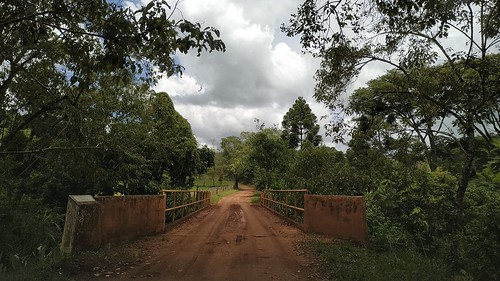road: (112, 192, 320, 281)
sky: (174, 1, 305, 140)
tree: (308, 1, 500, 103)
vegetation: (1, 1, 198, 183), (250, 99, 500, 190)
